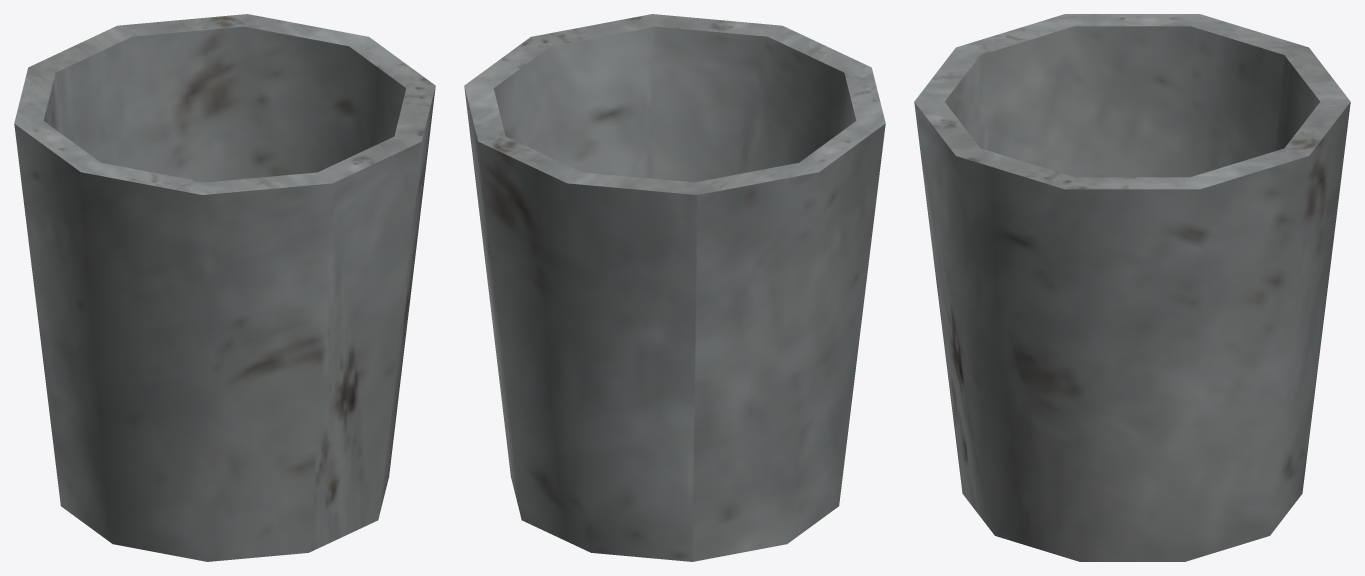
File: Bucket.glb
3 views of the same model, side by side, from view 1: azimuth 30°, elevation 25°; view 2: azimuth 150°, elevation 25°; view 3: azimuth 270°, elevation 25° (orthographic).
Visible parts, largest first — view 1: Cylinder; view 2: Cylinder; view 3: Cylinder.
Part boxes in pixels (bbox=[...]): Cylinder: bbox=[14, 14, 435, 561]; Cylinder: bbox=[464, 14, 885, 561]; Cylinder: bbox=[914, 14, 1350, 561].
Bounding box in the file's own units: 1.51 × 1.58 × 1.59.
1 material, 1 textured.
